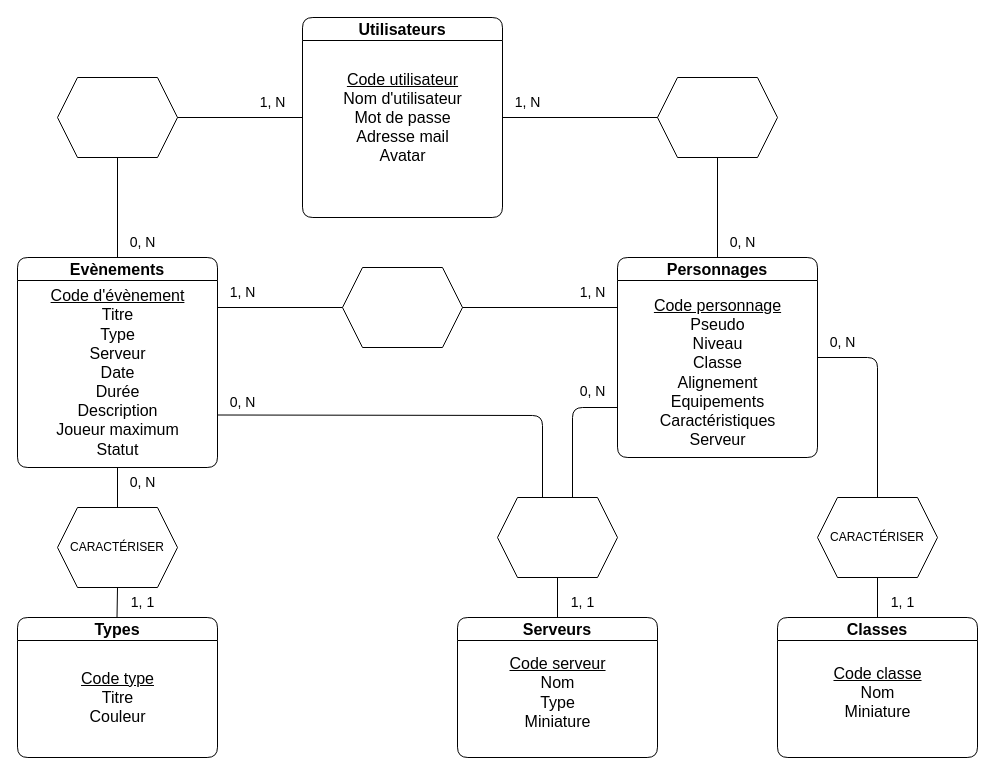
This 995x775 diagram has some shape labels left out. Here are the shapes that lost their labels. From the top down, the centre of each, then its label:
At [117,117]: "CRÉER".
At [717,117]: "JOUER".
At [402,307]: "PARTICIPER".
At [557,537]: "APPARTENIR".
